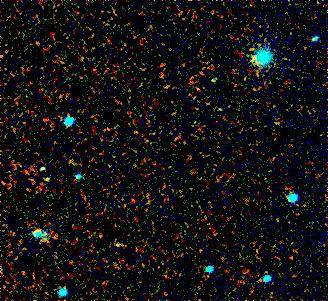star: (36, 166, 66, 196)
